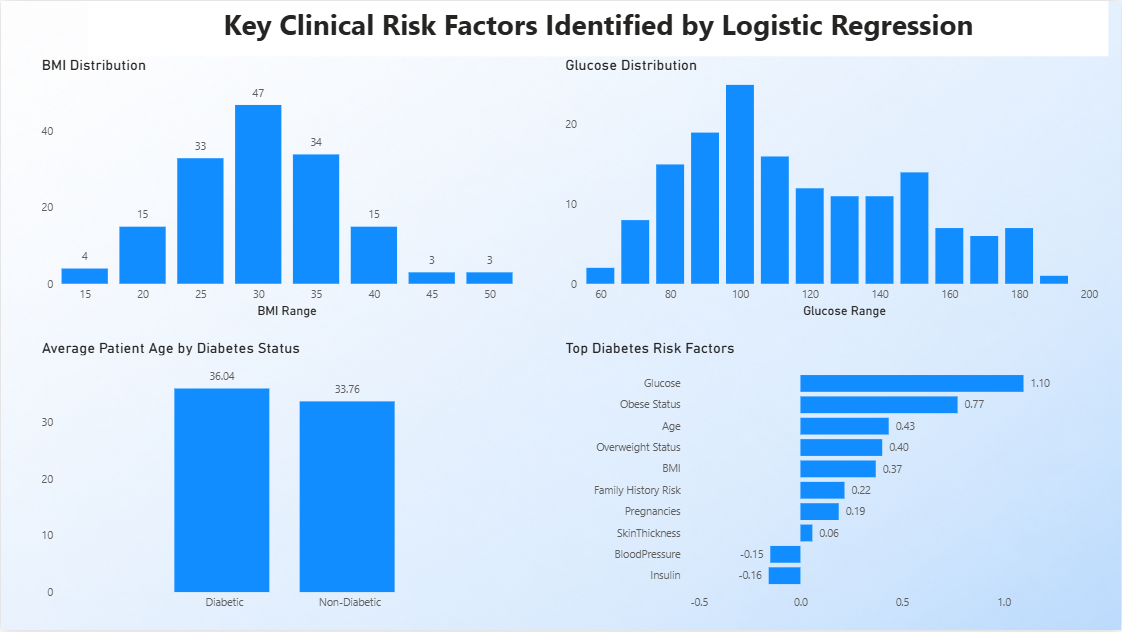

The page's visual inventory and layout, read from the dashboard file:
{"tool":"powerbi","page":{"name":"Risk Factors","canvas":[1280,720],"ordinal":1},"visuals":[{"type":"clusteredColumnChart","title":"BMI Distribution","fields":{"Category":["diabetes_predictions.BMI (bins)"],"Y":["CountNonNull(diabetes_predictions.BMI)"]},"box":[41.4,62.9,548.6,304.3],"z":0},{"type":"clusteredColumnChart","title":"Glucose Distribution","fields":{"Category":["diabetes_predictions.Glucose (bins)"],"Y":["CountNonNull(diabetes_predictions.Glucose)"]},"box":[640,62.9,625.7,304.3],"z":1000},{"type":"clusteredColumnChart","title":"Average Patient Age by Diabetes Status","fields":{"Y":["Avg(diabetes_predictions.Age)"],"Category":["diabetes_predictions.Outcome_Label"]},"box":[41.4,385.7,548.6,320],"z":2000},{"type":"clusteredBarChart","title":"Top Diabetes Risk Factors","fields":{"Category":["feature_importance.Feature_Display"],"Y":["Sum(feature_importance.Coefficient)"]},"box":[640,385.7,625.7,320],"z":3000},{"type":"textbox","box":[100,0,1165.7,62.9],"z":4000}]}

Visuals, with their boxes in screenshot pixels (x1, y1, x2, y2), scaled from the page's 1280x720 canvas onto the 1122x632 screenshot:
"BMI Distribution" clusteredColumnChart: left=36, top=55, right=517, bottom=322
"Glucose Distribution" clusteredColumnChart: left=561, top=55, right=1109, bottom=322
"Average Patient Age by Diabetes Status" clusteredColumnChart: left=36, top=339, right=517, bottom=619
"Top Diabetes Risk Factors" clusteredBarChart: left=561, top=339, right=1109, bottom=619
textbox: left=88, top=0, right=1109, bottom=55
